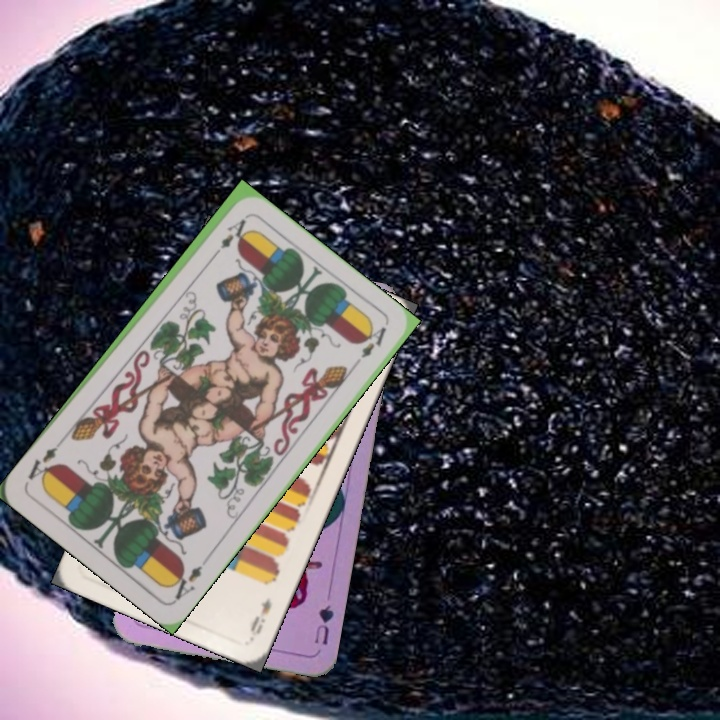E9: (246, 594, 274, 641)
EA: (164, 553, 211, 604), (207, 215, 248, 263)
GU: (310, 601, 336, 648)
